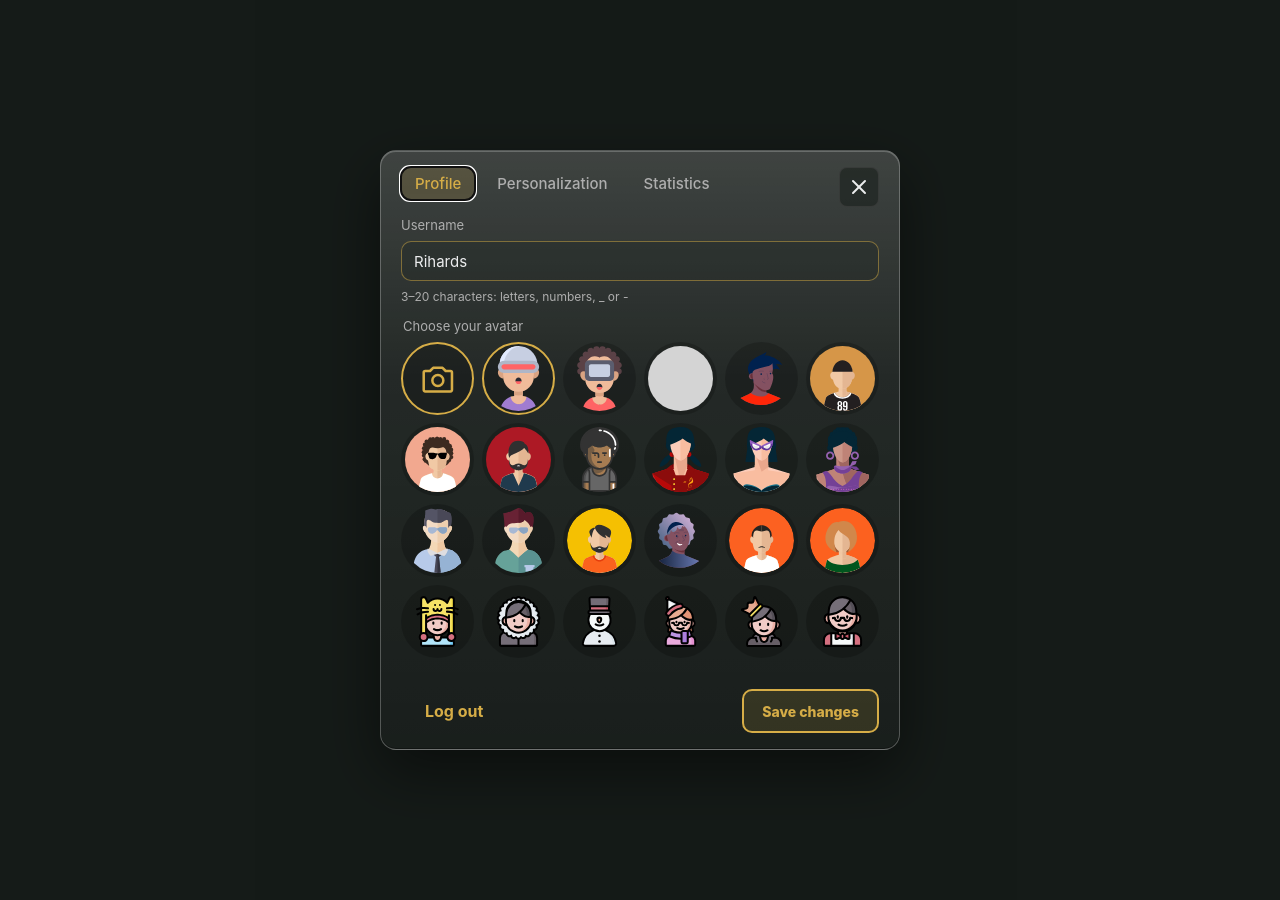
Test case: AuthDialog — Personalization tab (theme switcher + store) › free Default is selectable; unowned purchasable themes are locked with a Buy button
Click the tab "Personalization" at (552, 184), box [483, 167, 622, 200]
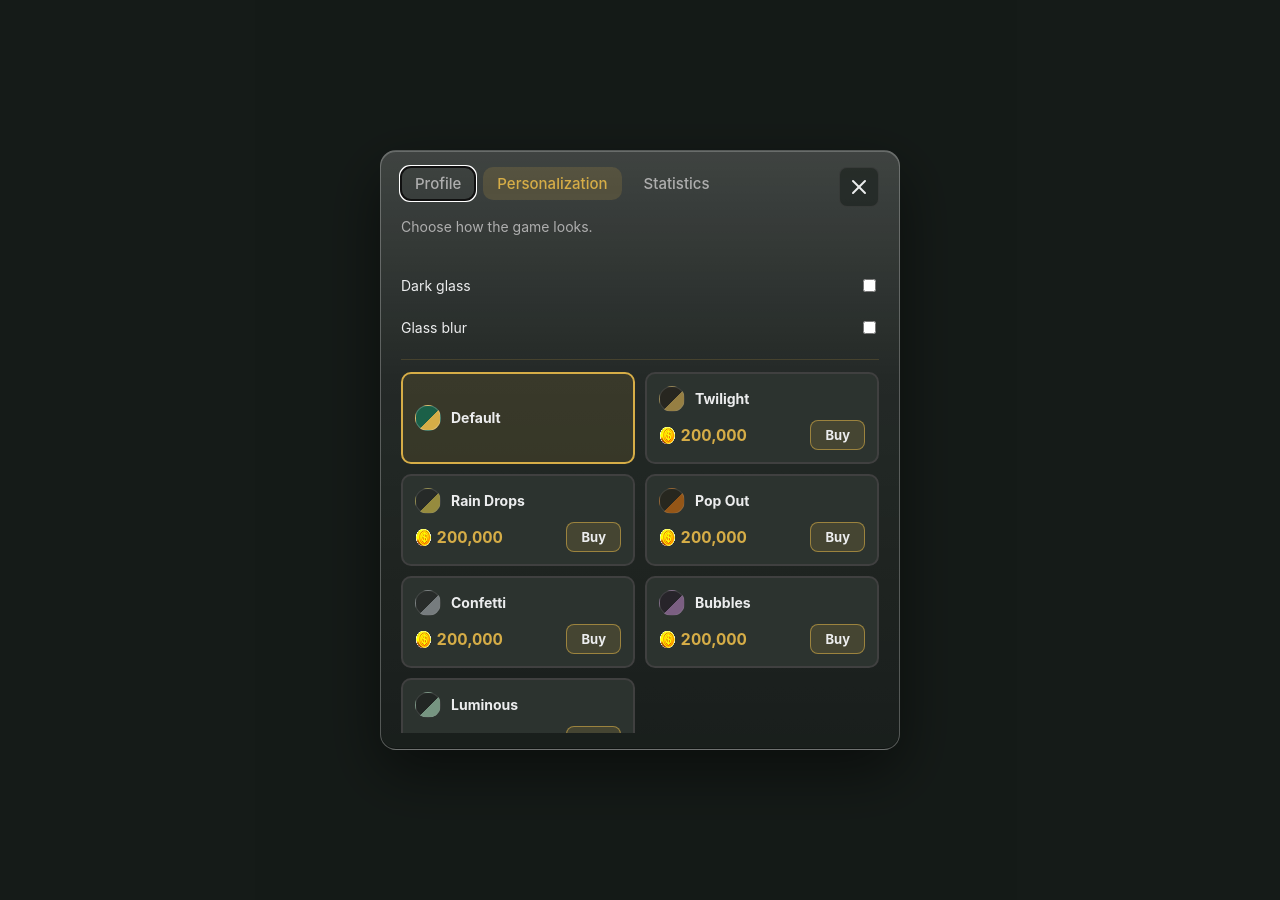
Result: the radio button labelled "Default" is shown at [401, 372, 635, 464]
Result: the number of buttons "Buy" is 6
